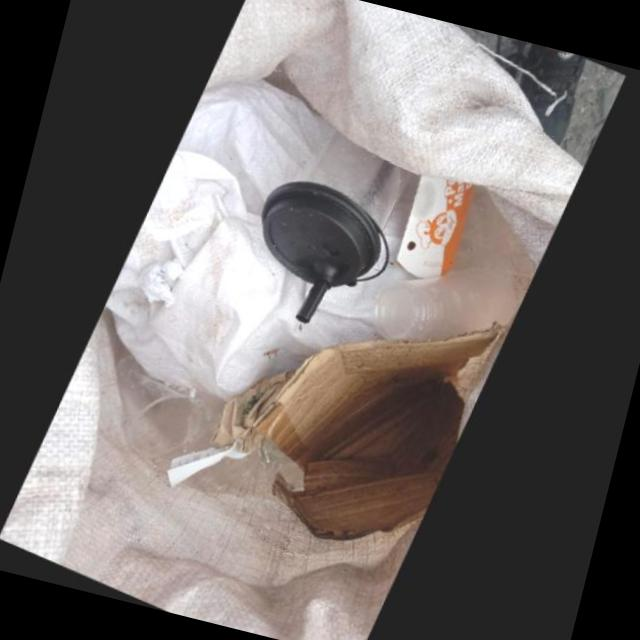carton: (259, 330, 502, 541), (398, 171, 480, 281)
hop_nhua: (263, 131, 408, 289), (376, 266, 528, 341), (118, 359, 199, 453), (459, 185, 540, 277)
ong_hut_nhua: (298, 281, 329, 324)
